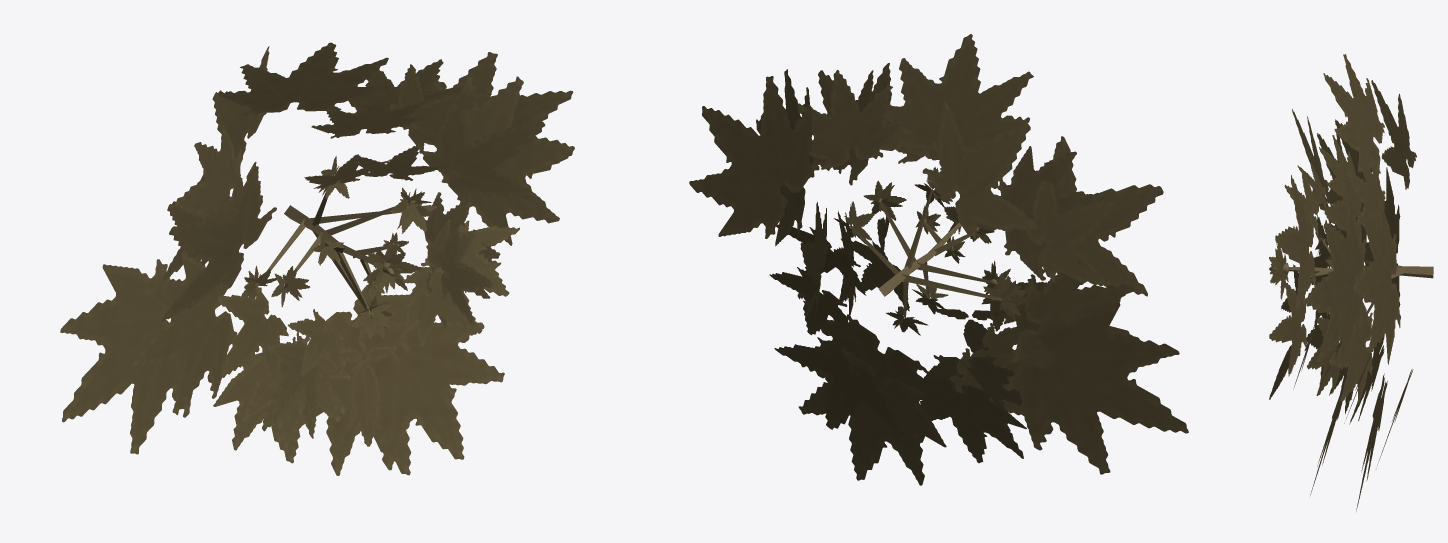
File: p_tree_preflower_c4_cards.obj
The picture shows the model from 3 angles, left to right: view 1: azimuth 30°, elevation 25°; view 2: azimuth 150°, elevation 25°; view 3: azimuth 270°, elevation 25°; orthographic projection. The views are drawn at different scales.
Bounding box in the file's own units: 1.56 × 1.3 × 0.442.
1 material, 1 textured.
